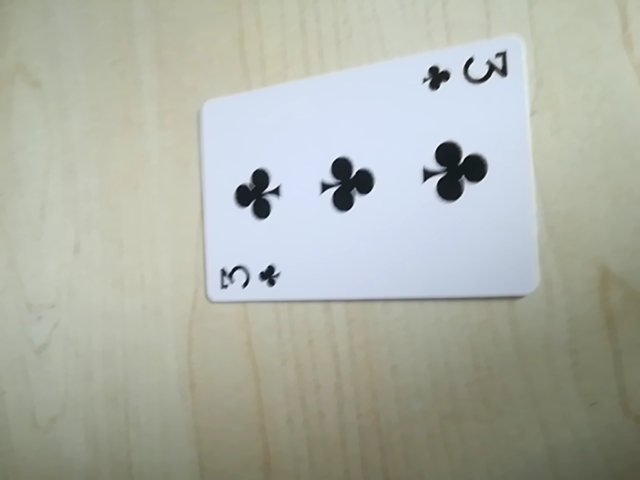mh 3: (419, 47, 513, 93), (211, 259, 286, 297)
